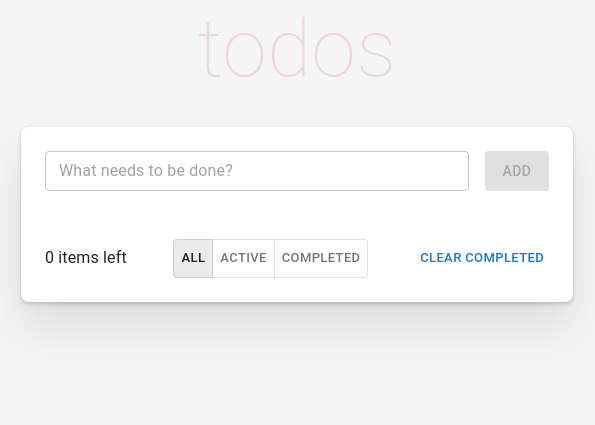
Scenario: Todo App › adding a new todo
The image size is (595, 425).
Type "New task" into the field with placeholder "What needs to be done?" at (257, 171), box [45,151,469,191]
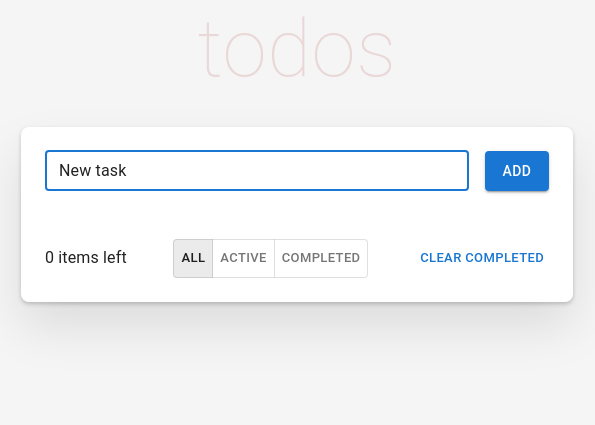
Click the button "Add" at (517, 171), box [485,151,549,191]
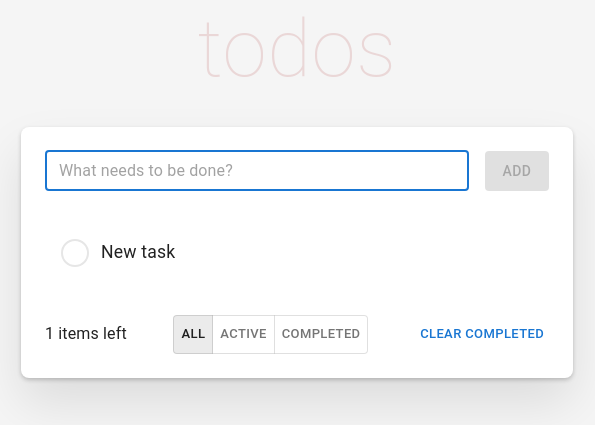
expect the text "New task" is shown: met, box [101,242,175,262]
